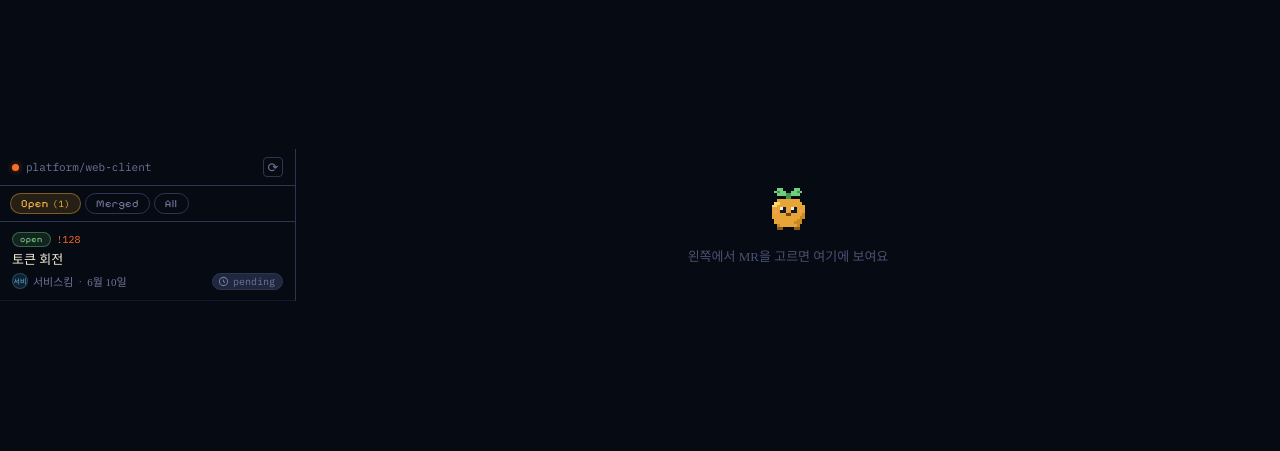
Scenario: MRView — GitLab MR 뷰 (GL7) › 승인 박스: approvals 응답이 있으면 met/unmet 렌더
Expected: the text "!128" is shown, [56,233,80,246]
What coordinates should you click on to do the following:
click the text "토큰 회전"
I would click on:
 (38, 260)
Its box is [12,252,63,267].
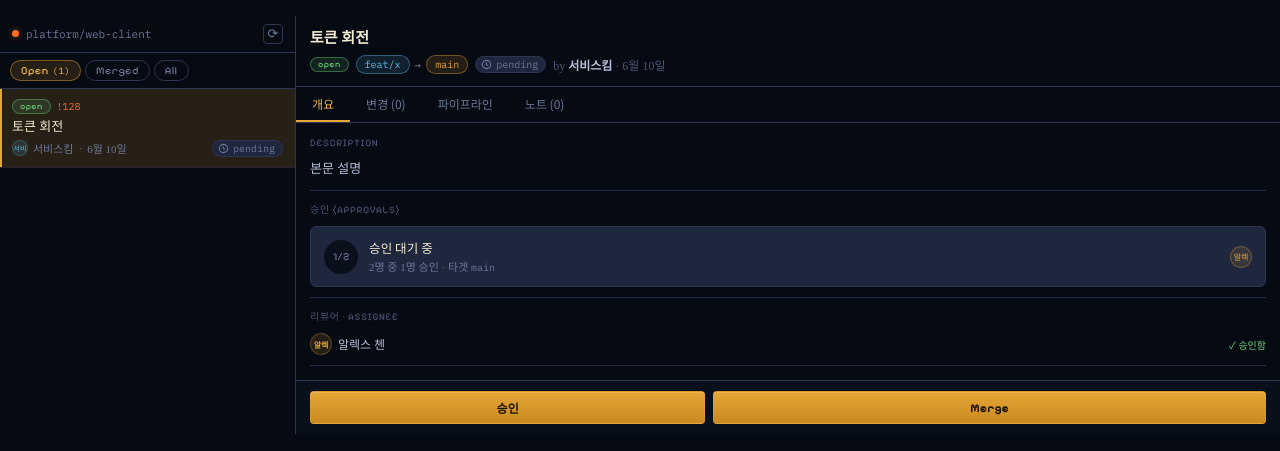
Now the text "승인 (Approvals)" is shown, box [310,204,400,216]
Now the text "1/2" is shown, box [324,240,358,274]
Now the text "승인 대기 중" is shown, box [369,241,433,257]
